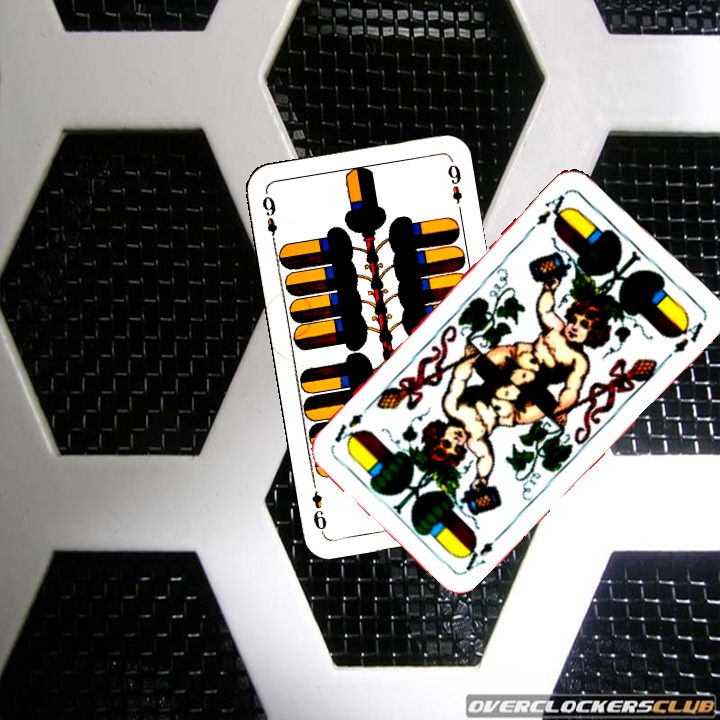E9: (258, 189, 280, 248)
EA: (526, 187, 574, 234), (457, 528, 506, 574)
